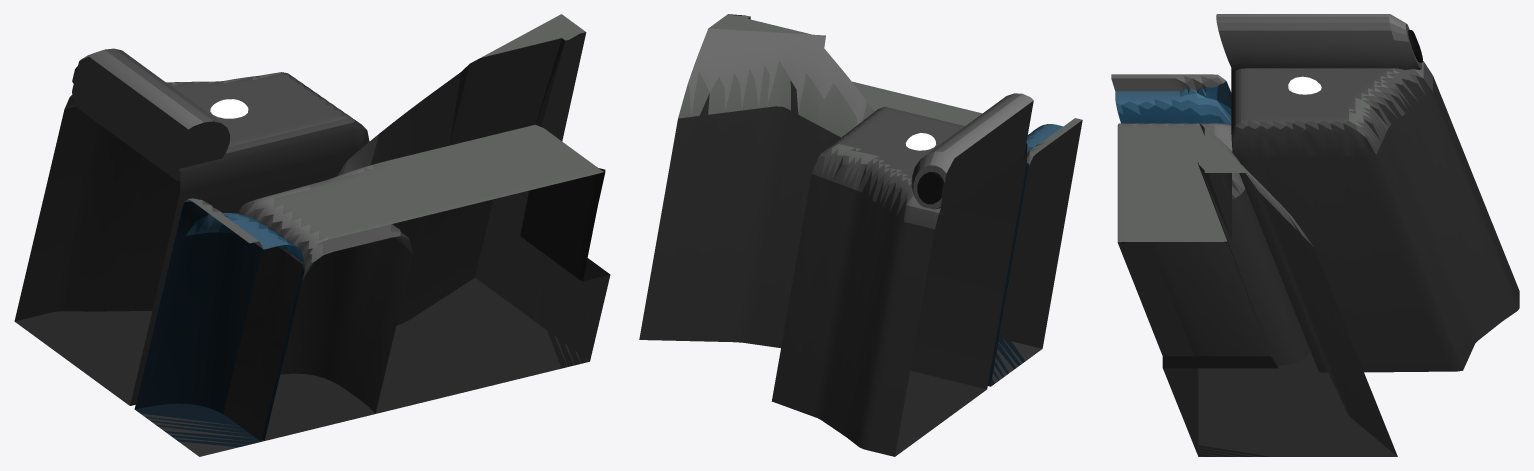
The model's file is fleet_walker_5.glb.
3 renders of one model, left to right at view 1: azimuth 30°, elevation 25°; view 2: azimuth 150°, elevation 25°; view 3: azimuth 270°, elevation 25°, orthographic. The views are drawn at different scales.
Parts seen in each view (by area): view 1: fleet_walker_5; view 2: fleet_walker_5; view 3: fleet_walker_5.
Boxes of the visible parts, x1,y1,x2,y2 form: fleet_walker_5: [14, 14, 610, 456]; fleet_walker_5: [639, 14, 1082, 456]; fleet_walker_5: [1111, 14, 1519, 456].
Bounding box in the file's own units: 24 × 19.2 × 25.05.
